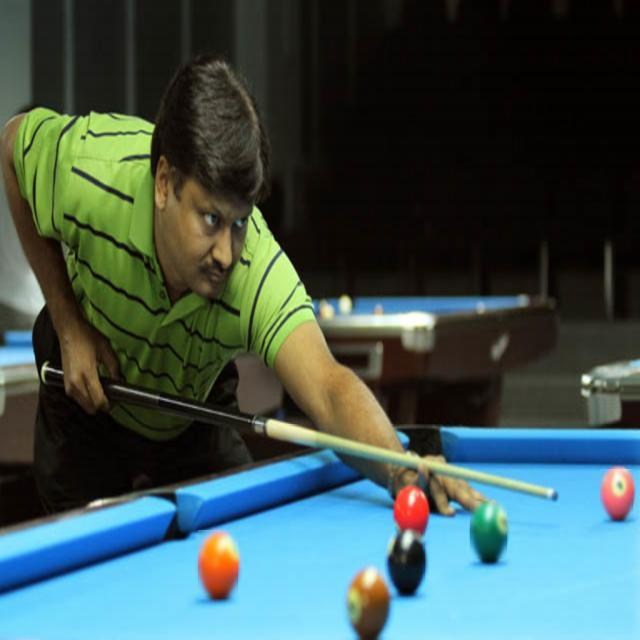Ball: (346, 568, 391, 638), (198, 530, 238, 599), (385, 530, 425, 596), (470, 502, 507, 560), (600, 470, 633, 520), (393, 489, 431, 527)
Billiard table: (0, 424, 639, 639)
